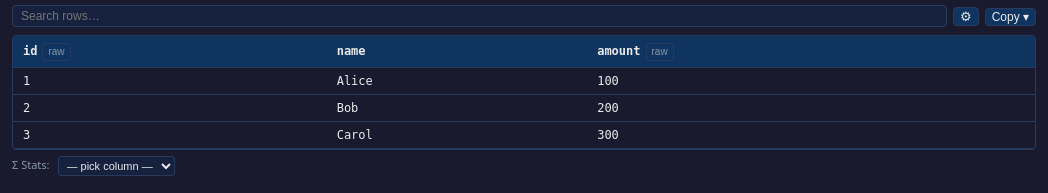
ResultsTable › column visibility: clicking ⚙ opens panel; hiding a column removes it from the table
The width and height of the screenshot is (1048, 193).
// Open column visibility panel
Click the button titled "Column visibility" at {"x": 966, "y": 16}, box [953,7,979,26]
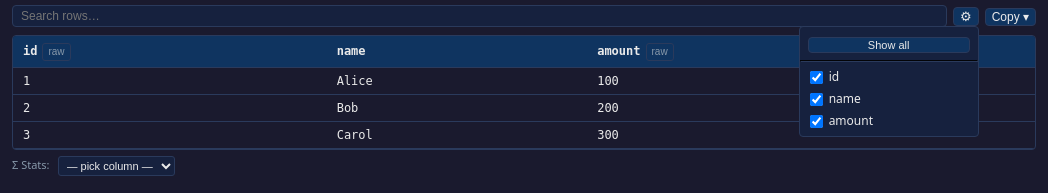
Expected: the checkbox labelled "name" is checked
Click the checkbox labelled "name" at {"x": 816, "y": 99}, box [810,92,823,106]
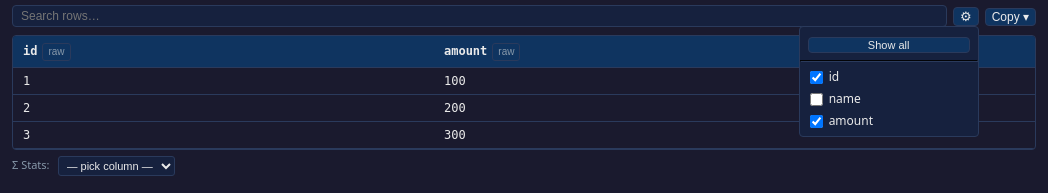
Expected: the text "Alice" is gone
